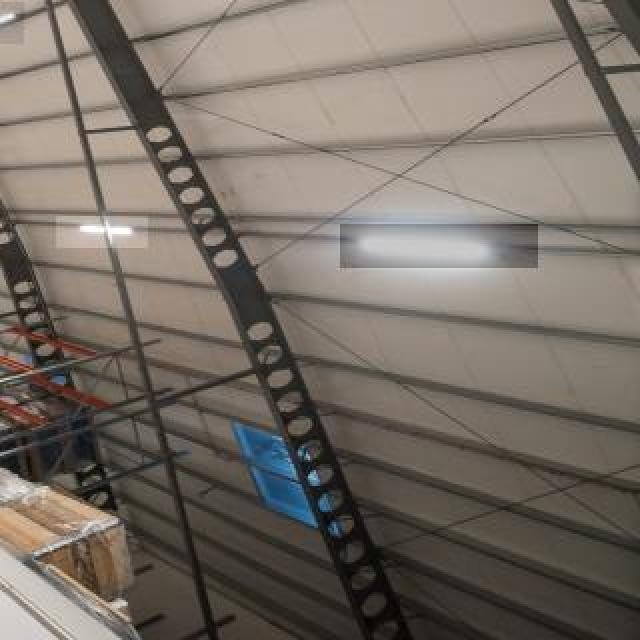fluorescent tube: (334, 220, 531, 271), (62, 213, 151, 258), (0, 2, 24, 38)
